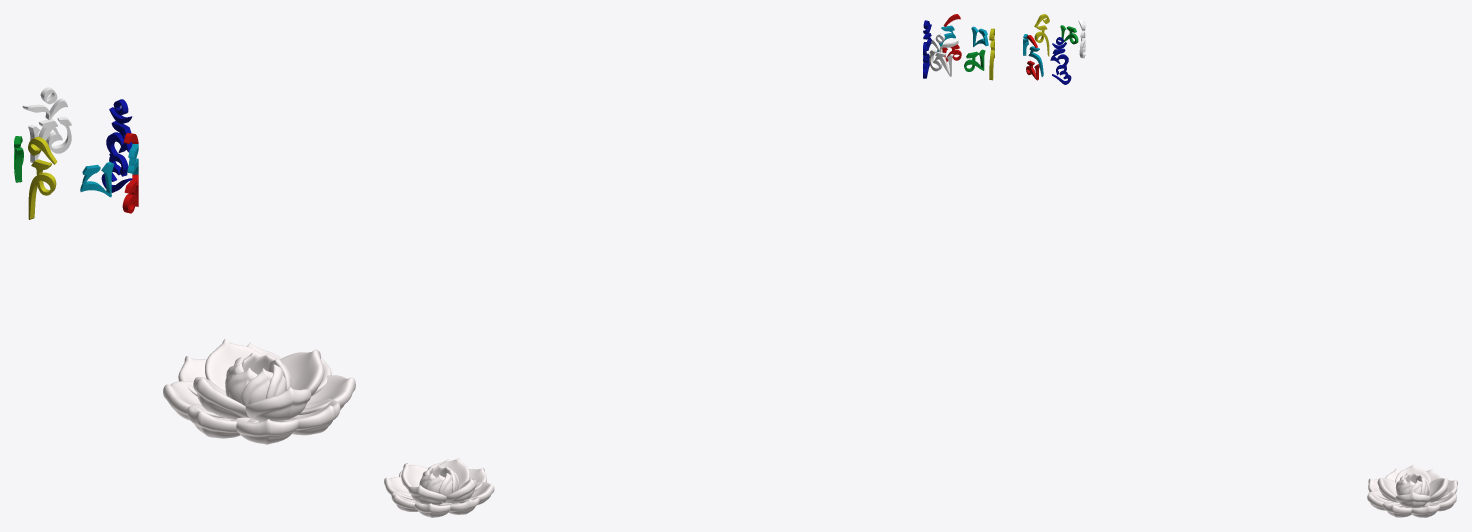
The picture shows the model from 3 angles, left to right: view 1: azimuth 30°, elevation 25°; view 2: azimuth 150°, elevation 25°; view 3: azimuth 270°, elevation 25°; orthographic projection. The views are drawn at different scales.
Visible parts, largest first — view 1: Flower, polySurface1, polySurface9, polySurface6, polySurface13, polySurface4, polySurface8, polySurface7; view 2: Flower; view 3: Flower.
Boxes of the visible parts, <box> form: Flower: <box>163,339,355,444</box>; polySurface1: <box>101,121,132,192</box>; polySurface9: <box>28,117,71,162</box>; polySurface6: <box>28,159,56,219</box>; polySurface13: <box>80,162,114,197</box>; polySurface4: <box>122,174,138,213</box>; polySurface8: <box>14,136,23,182</box>; polySurface7: <box>28,136,57,164</box>; Flower: <box>384,457,494,517</box>; Flower: <box>1367,464,1457,517</box>.
Size of the model in its own units: 1.33 by 1.32 by 1.48.
